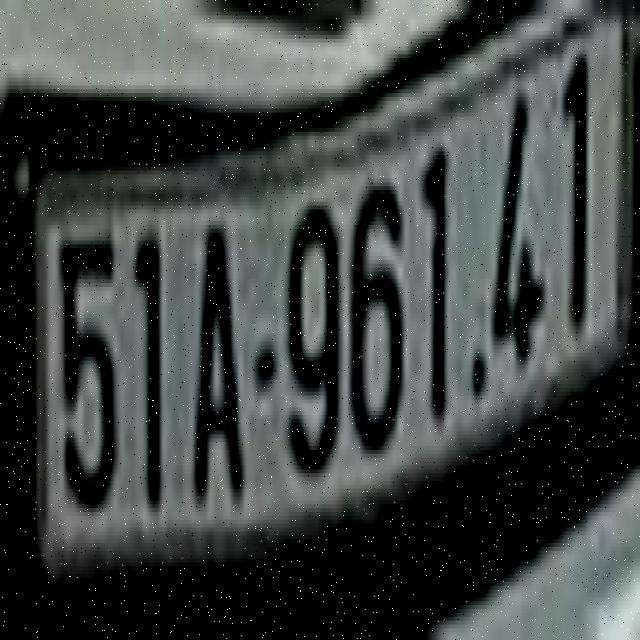1: (556, 26, 604, 374), (416, 109, 461, 442), (132, 209, 169, 516)
4: (488, 62, 546, 407)
5: (58, 213, 118, 520)
6: (349, 151, 405, 462)
9: (285, 182, 341, 485)
A: (190, 200, 246, 506)
